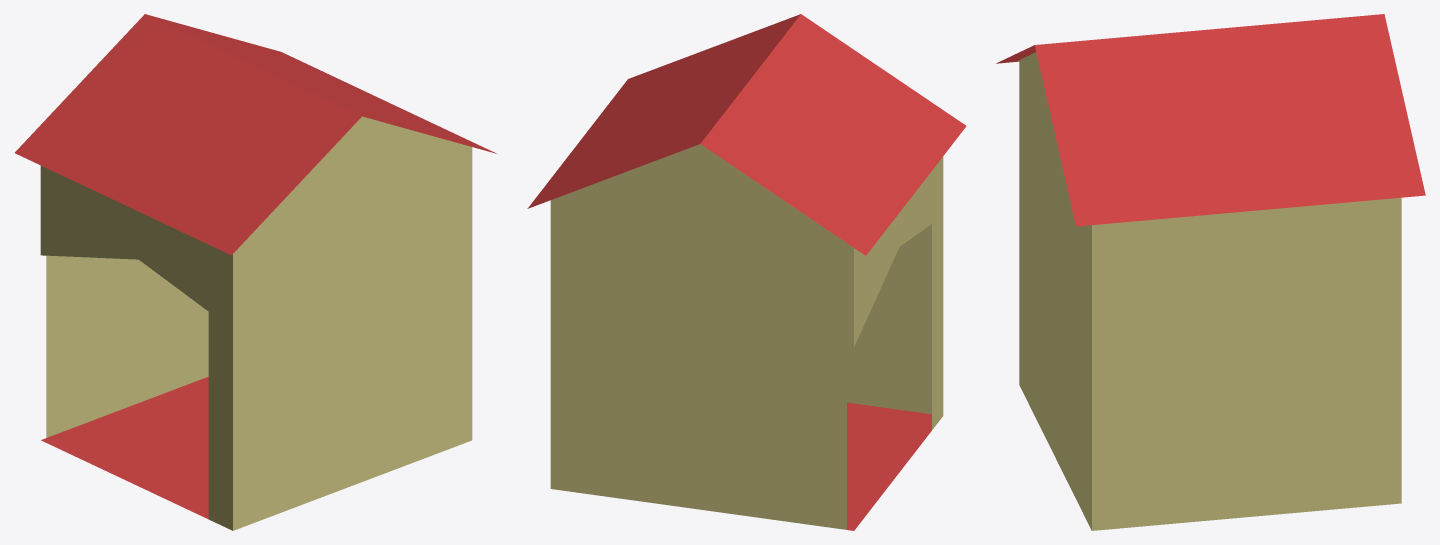
3 renders of one model, left to right at view 1: azimuth 30°, elevation 25°; view 2: azimuth 150°, elevation 25°; view 3: azimuth 270°, elevation 25°, orthographic. The views are drawn at different scales.
Size of the model in its own units: 11.22 by 10.54 by 11.15.
